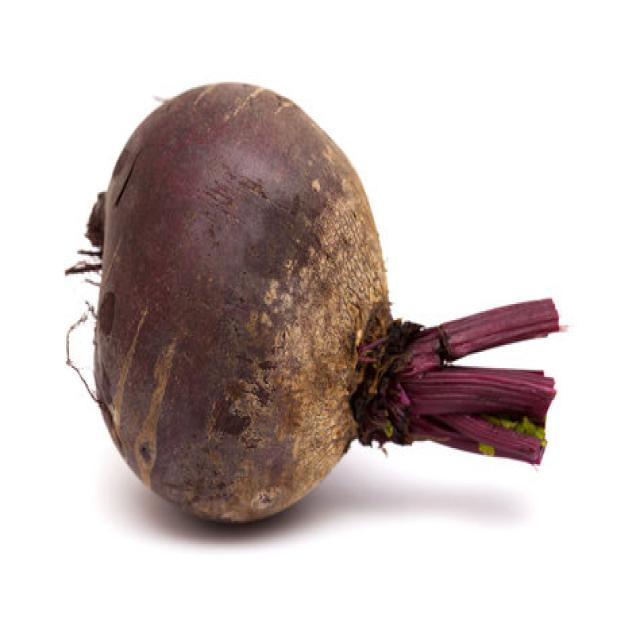Beetroot: (359, 295, 567, 379), (397, 364, 556, 420), (405, 410, 547, 468)
Garlic: (64, 78, 568, 524)
